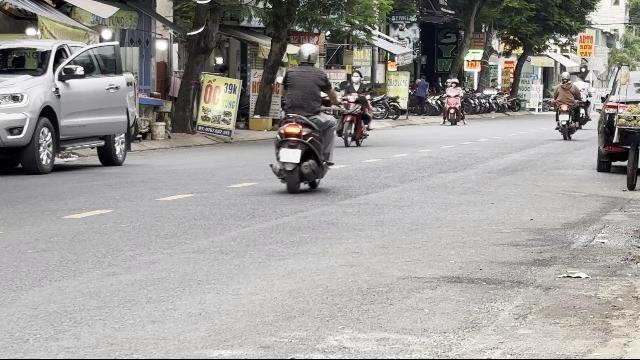helmet: (296, 43, 318, 65), (350, 68, 362, 84)
licenseplate: (279, 148, 299, 162)
motorcyclist: (270, 42, 338, 192), (336, 68, 374, 148)
